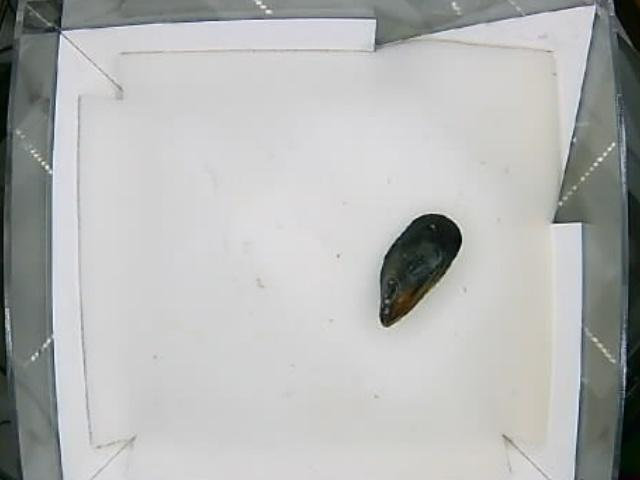Shell: (377, 213, 462, 327)
